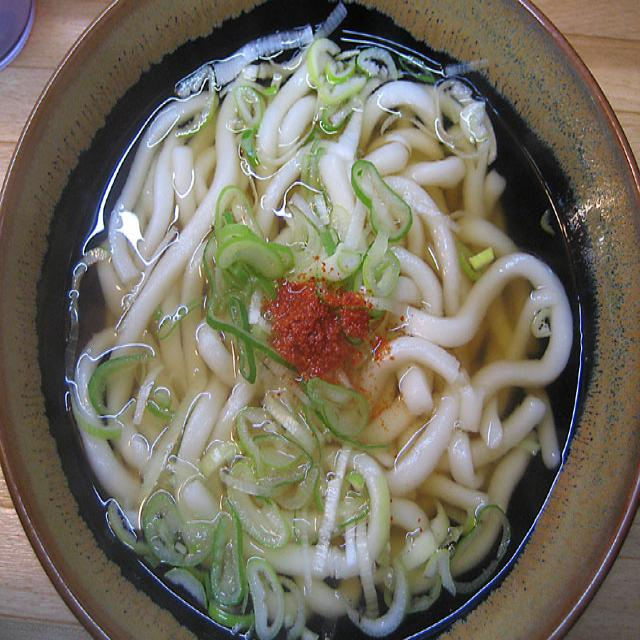面条主食: (24, 0, 612, 640)
